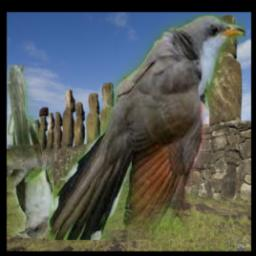Cuckoo: (49, 14, 245, 240), (8, 64, 53, 238)
